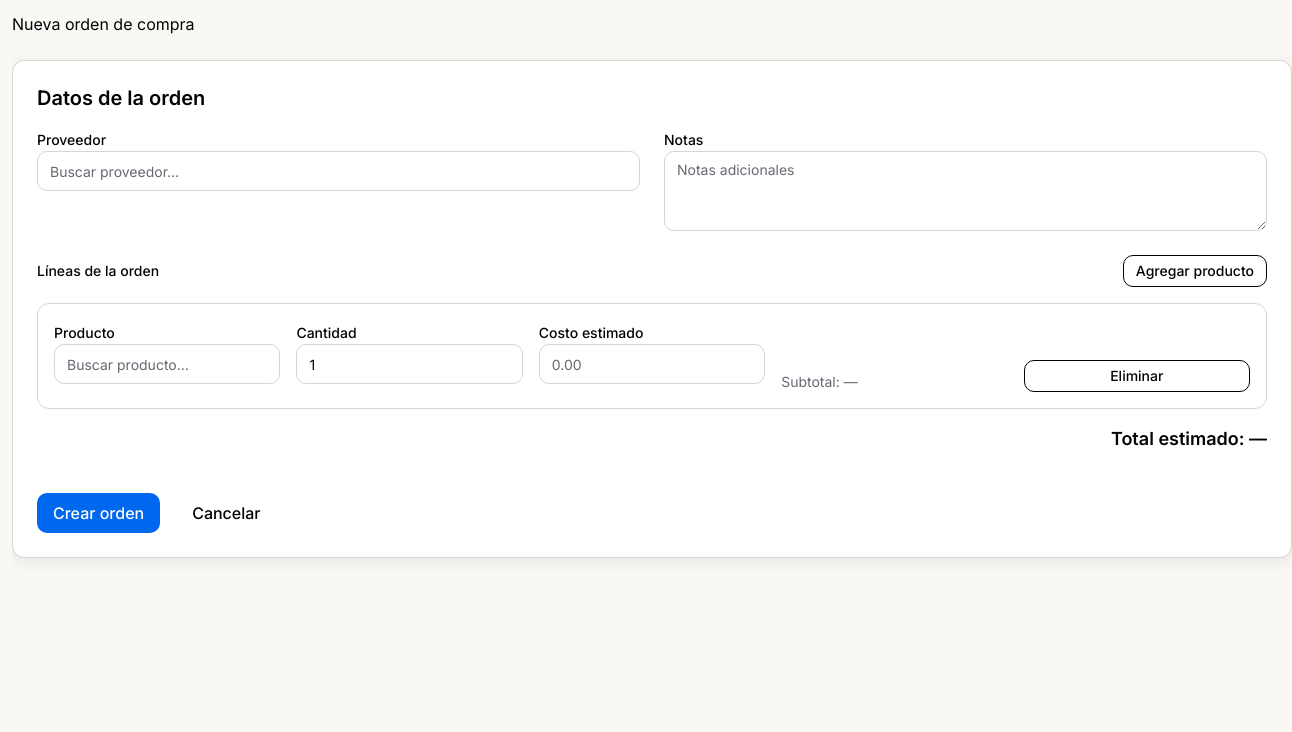
Test: PurchaseOrderFormPage — create mode › shows the line subtotal and total from cents arithmetic
Click the dropdown labelled "Producto" at (167, 364), box left=54, top=344, right=280, bottom=384
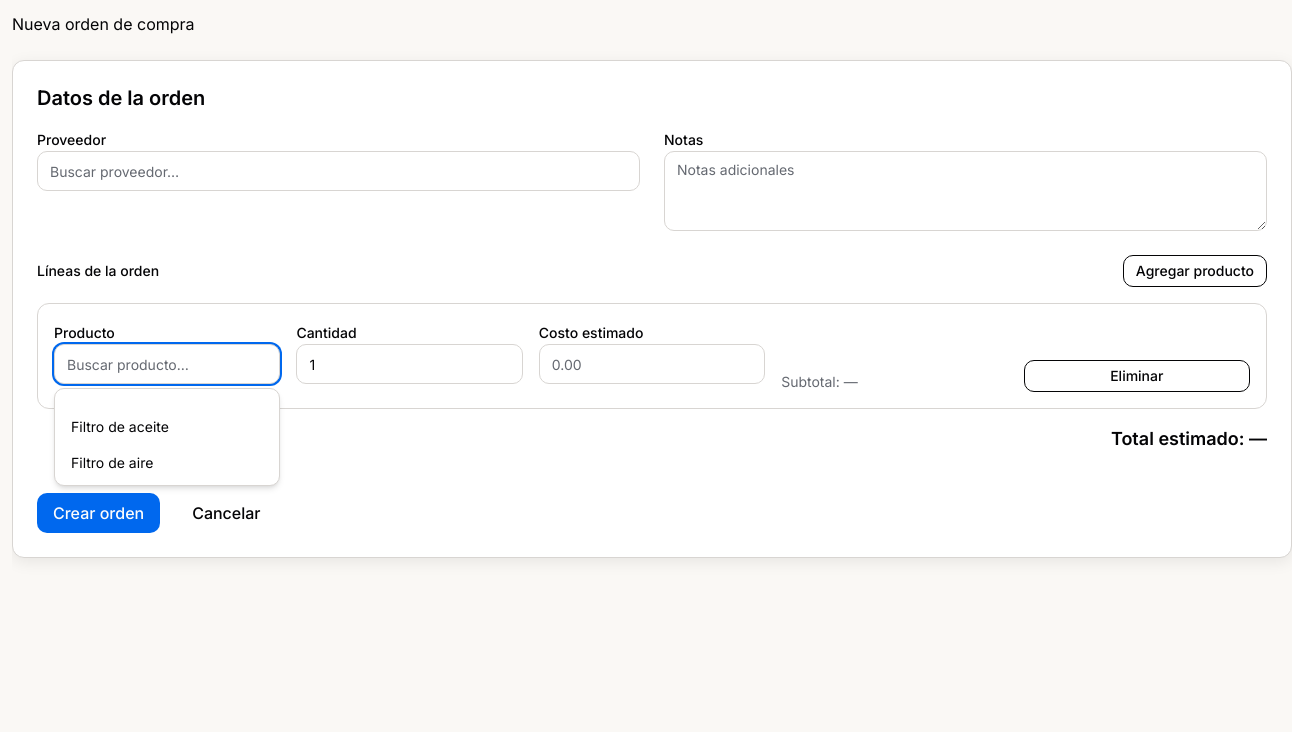
Click the option "Filtro de aceite" at (120, 426), box left=71, top=418, right=169, bottom=435
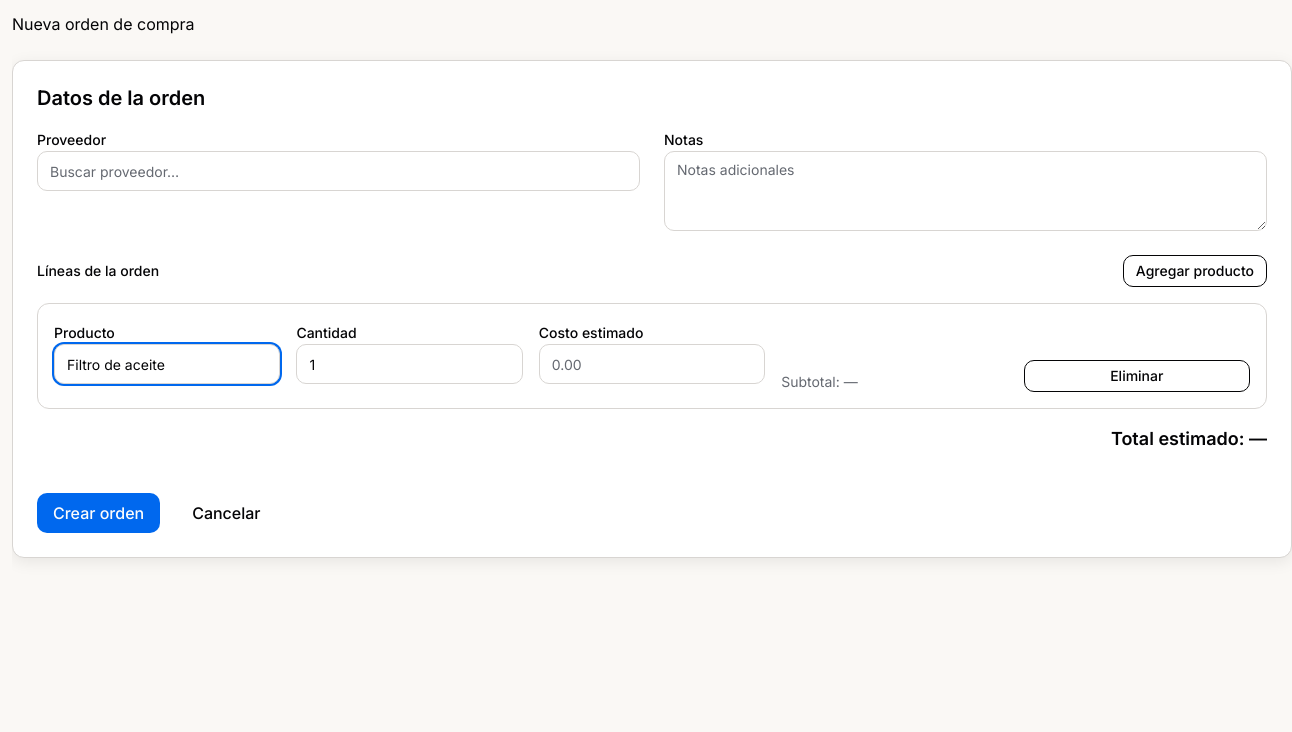
Replace the text in the number field labelled "Cantidad" with "10" at (410, 364), box left=296, top=344, right=523, bottom=384
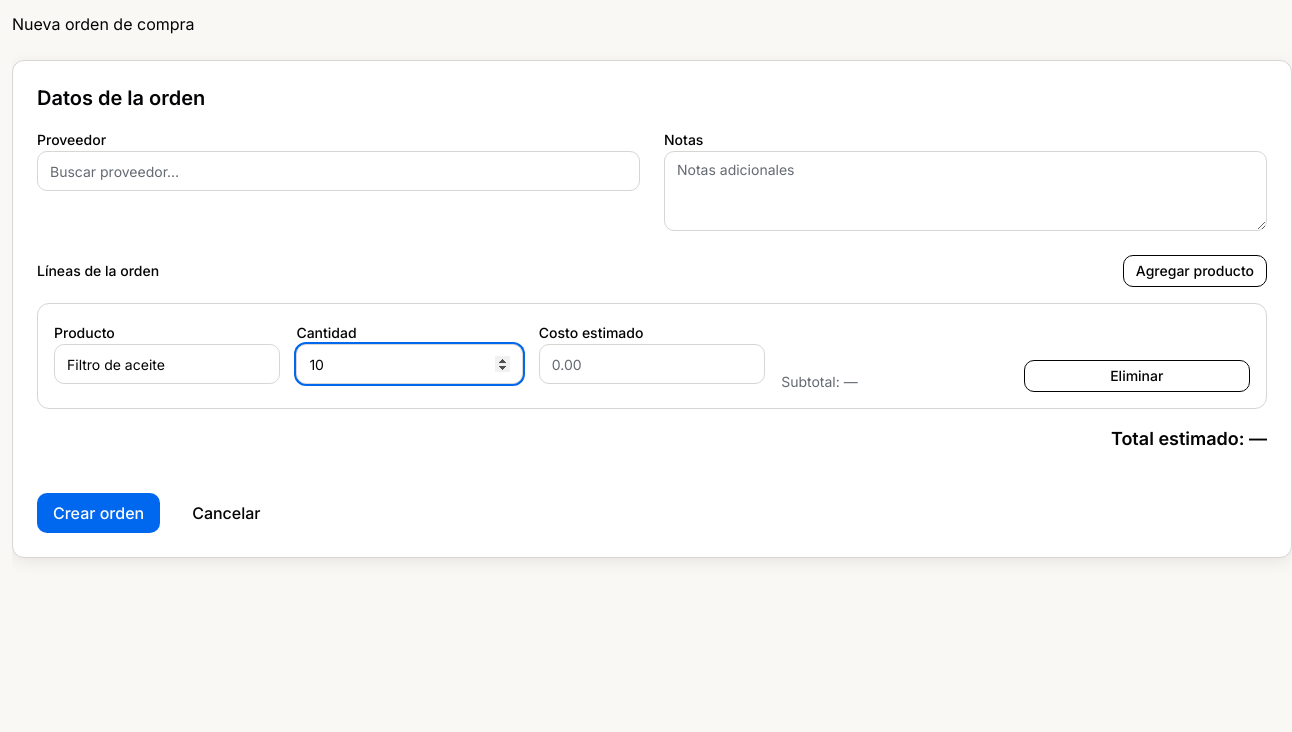
Type "50.00" into the field labelled "Costo estimado" at (652, 364), box left=539, top=344, right=765, bottom=384
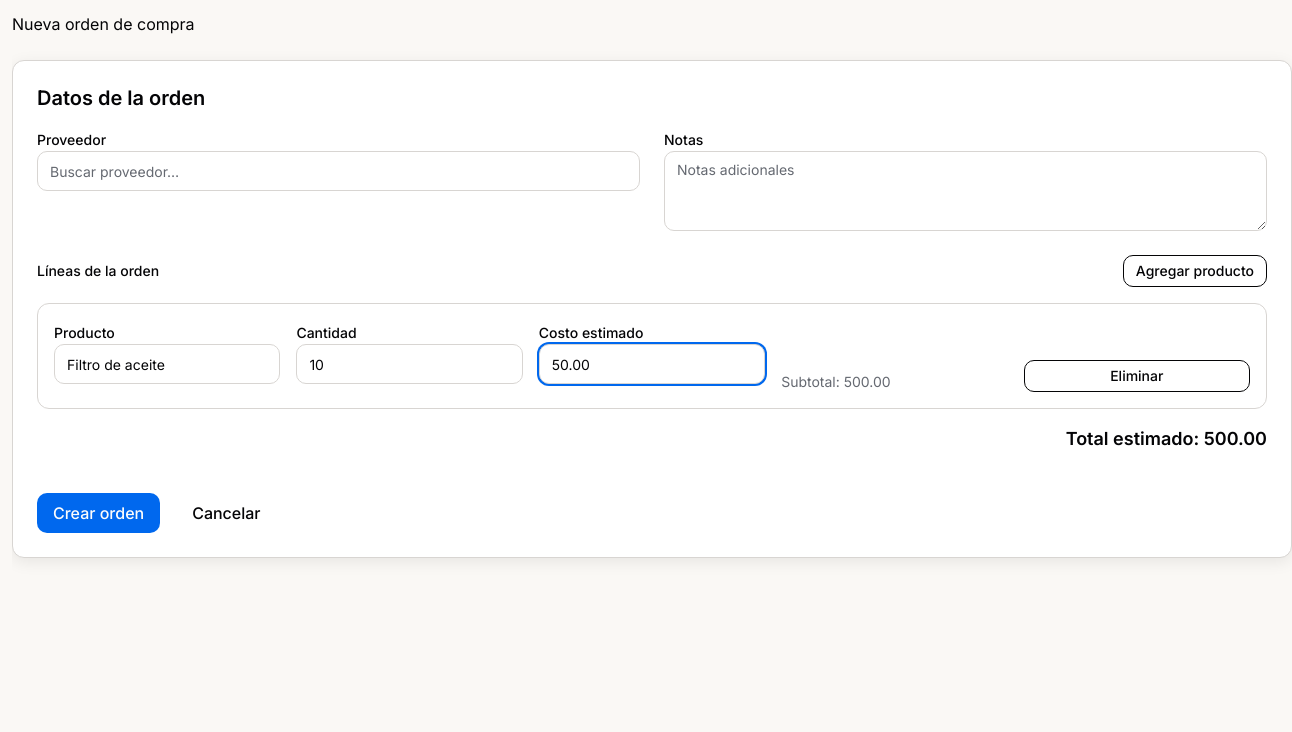
Check: the text "Subtotal: 500.00" is shown, box left=781, top=372, right=891, bottom=392
Check: the text "Total estimado: 500.00" is shown, box left=1066, top=428, right=1267, bottom=449
